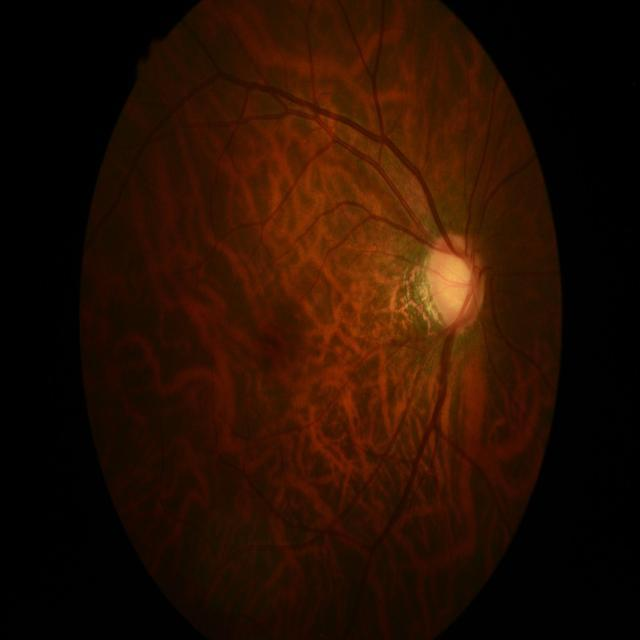cup: (433, 252, 474, 324)
disk: (427, 232, 486, 332)
